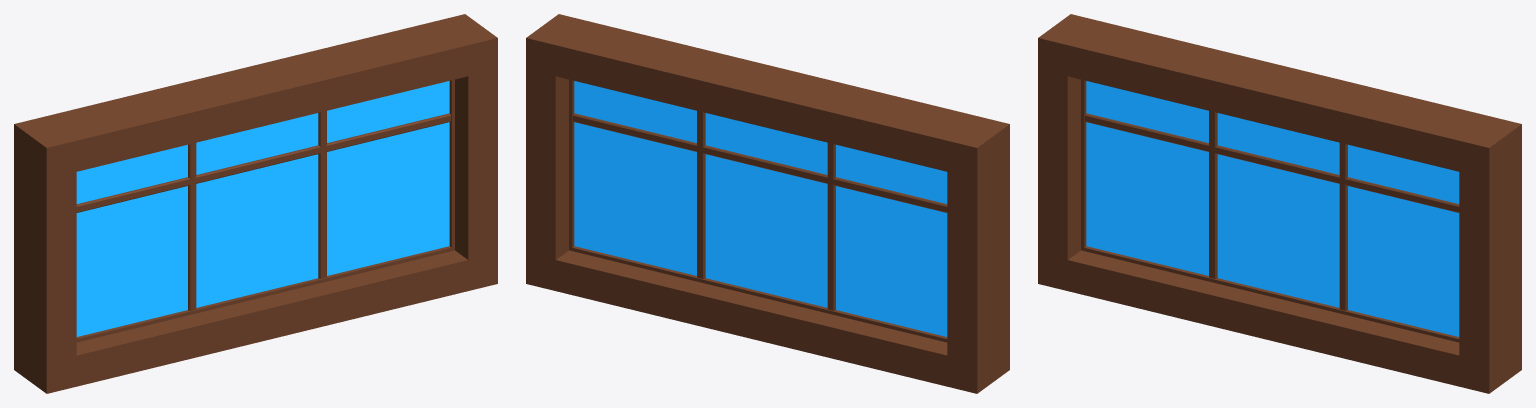
The model's file is janela_larga_bandeira_madeira.glb.
3 views of the same model, side by side, from view 1: azimuth 30°, elevation 25°; view 2: azimuth 150°, elevation 25°; view 3: azimuth 330°, elevation 25° (orthographic).
Visible parts, largest first — view 1: janela_larga_bandeira_madeira; view 2: janela_larga_bandeira_madeira; view 3: janela_larga_bandeira_madeira.
Boxes of the visible parts, box(x1,y1,x2,y2) form: janela_larga_bandeira_madeira: box(14, 14, 497, 393); janela_larga_bandeira_madeira: box(526, 14, 1009, 393); janela_larga_bandeira_madeira: box(1038, 14, 1521, 393).
Bounding box in the file's own units: 1.67 × 0.87 × 0.21.
